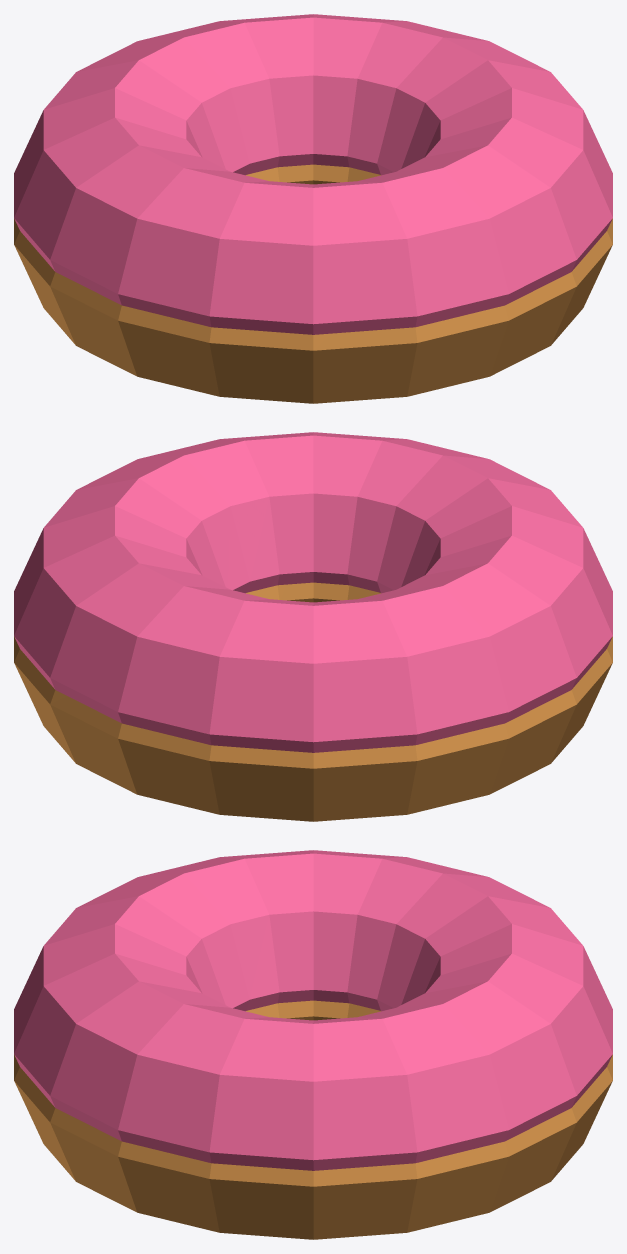
File: donut.obj
3 views of the same model, one above another, from view 1: azimuth 30°, elevation 25°; view 2: azimuth 150°, elevation 25°; view 3: azimuth 270°, elevation 25° (orthographic).
Parts seen in each view (by area): view 1: donut; view 2: donut; view 3: donut.
Part boxes in pixels (<box>): donut: <box>14,14,612,403</box>; donut: <box>14,432,612,821</box>; donut: <box>14,850,612,1239</box>.
Size of the model in its own units: 10 by 3.86 by 9.85.
